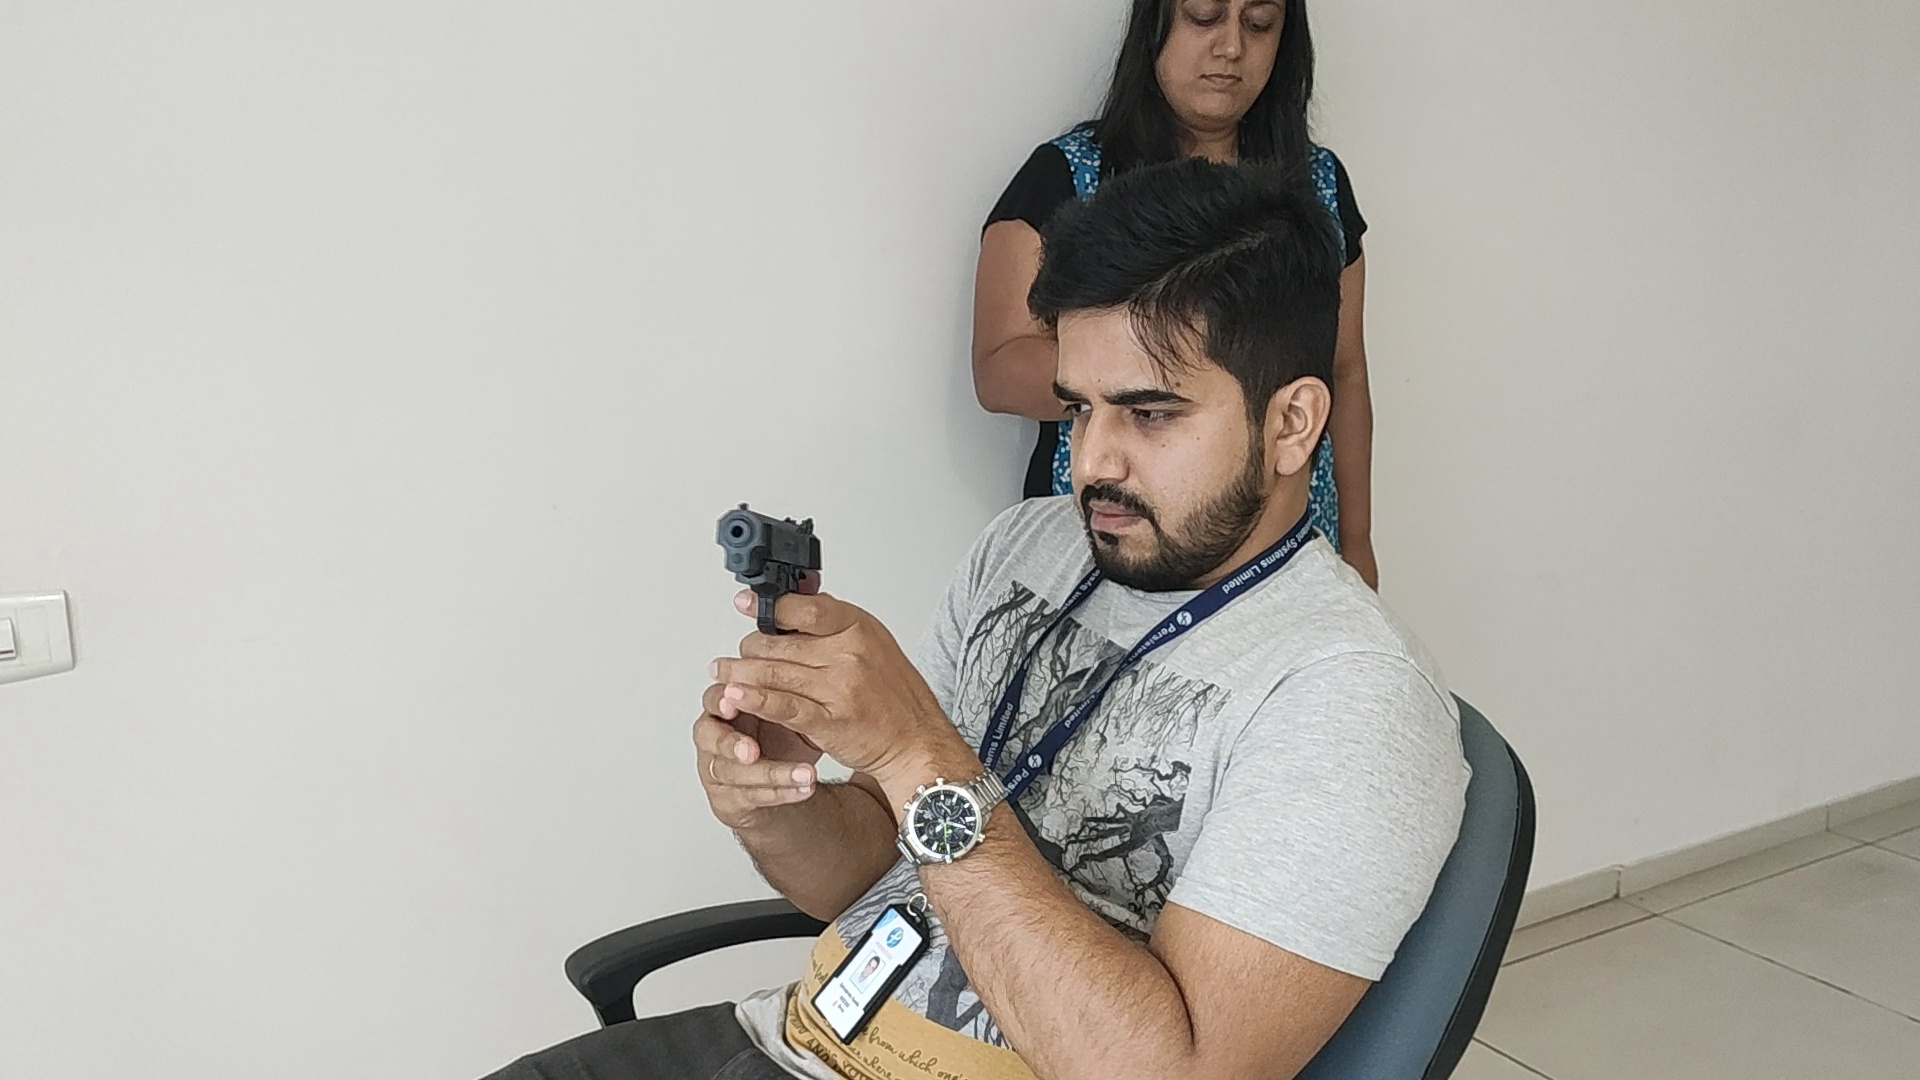gun: (717, 501, 825, 630)
